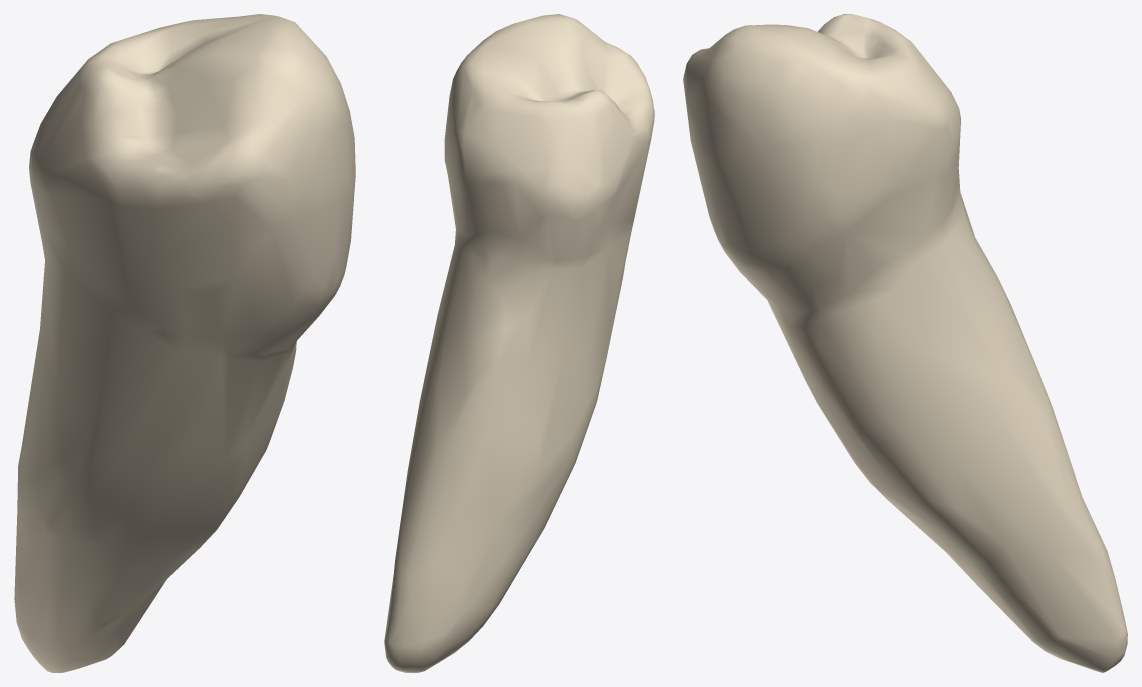
The model's file is lower-first-premolar-l.glb.
3 views of the same model, side by side, from view 1: azimuth 30°, elevation 25°; view 2: azimuth 150°, elevation 25°; view 3: azimuth 270°, elevation 25° (orthographic). The views are drawn at different scales.
Visible parts, largest first — view 1: Lower first premolar.l; view 2: Lower first premolar.l; view 3: Lower first premolar.l.
Part boxes in pixels (bbox=[...]): Lower first premolar.l: bbox=[14, 14, 355, 672]; Lower first premolar.l: bbox=[384, 14, 654, 672]; Lower first premolar.l: bbox=[683, 14, 1127, 672].
Size of the model in its own units: 0.00778 by 0.022 by 0.0138.
